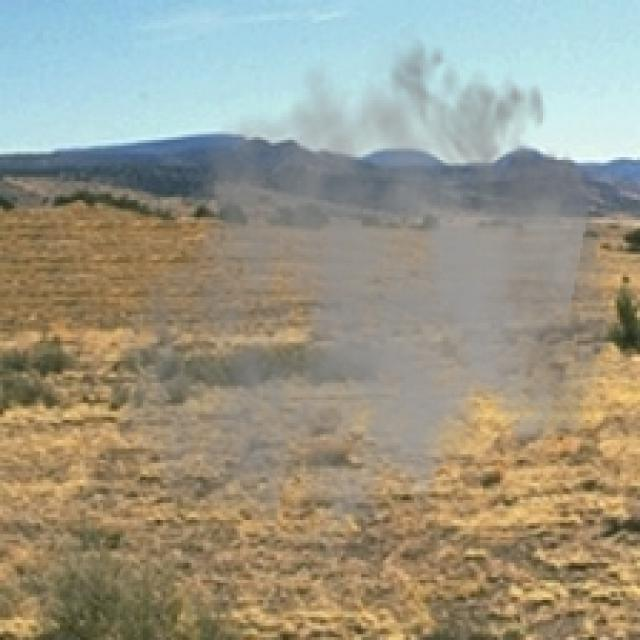smoke: (111, 20, 626, 586)
